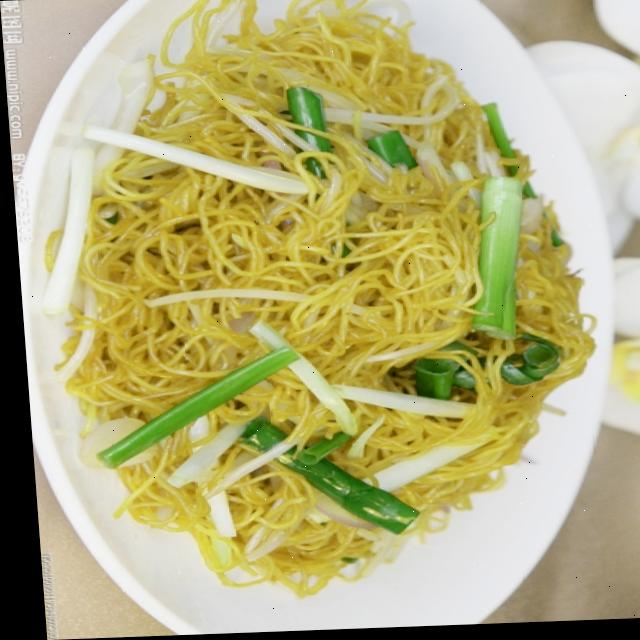面条主食: (33, 0, 630, 611)
